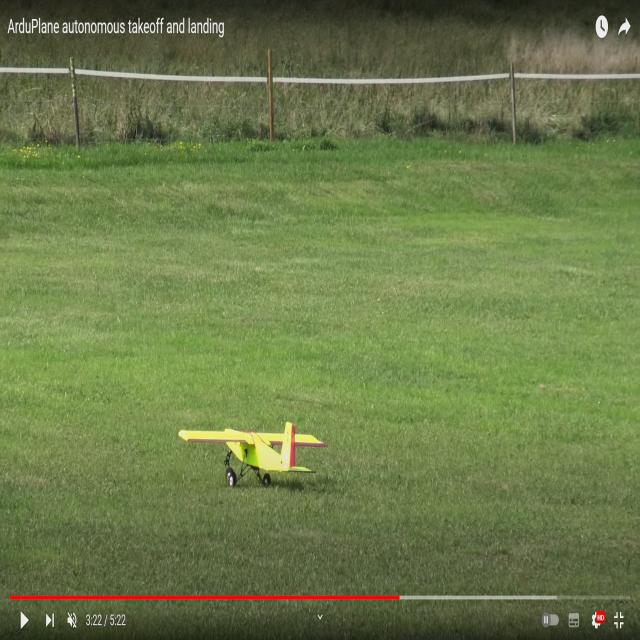iha: (178, 418, 328, 480)
